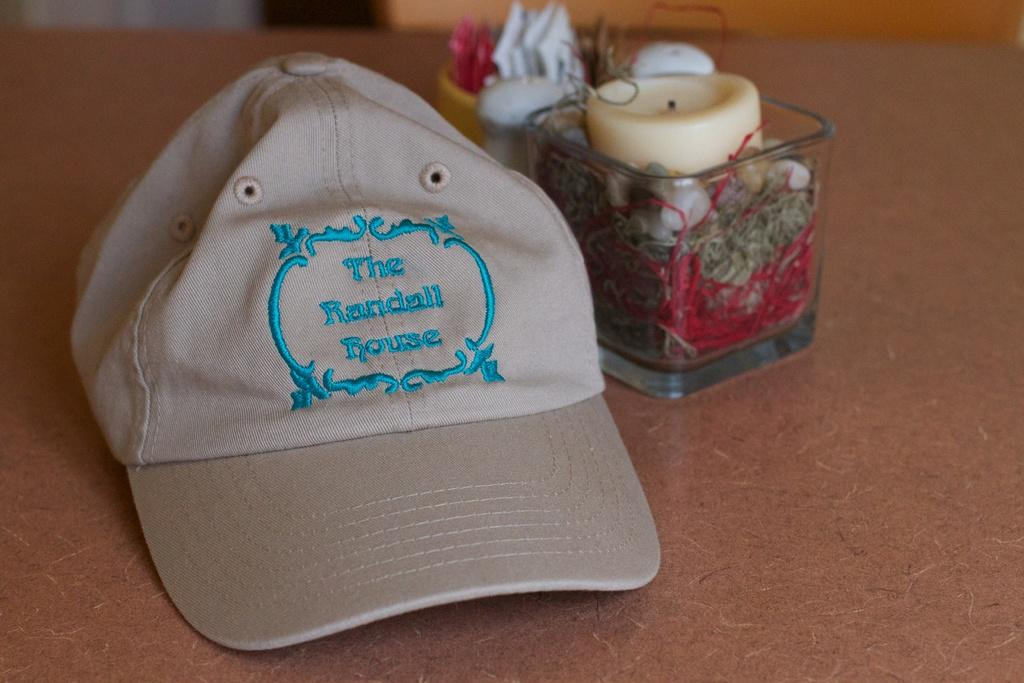Hat: (68, 50, 660, 652)
